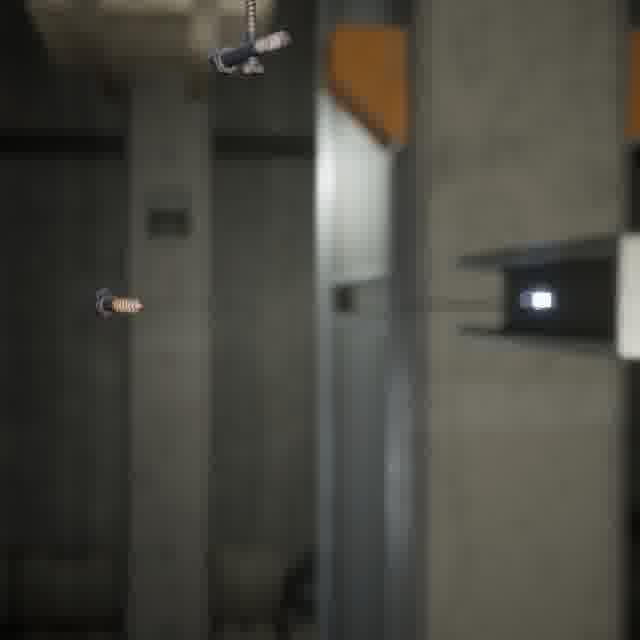bolt: (203, 26, 295, 80), (237, 0, 268, 80), (86, 284, 148, 321)
nut: (515, 287, 560, 314)
